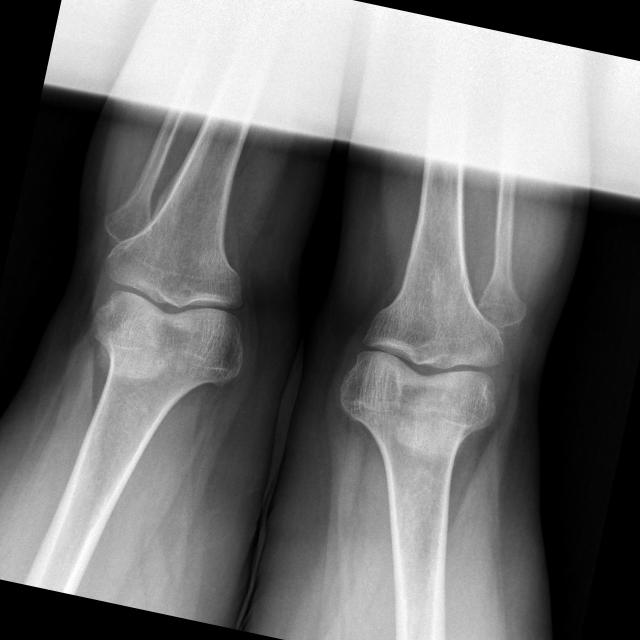Knee: (77, 208, 272, 397), (330, 287, 520, 463)
